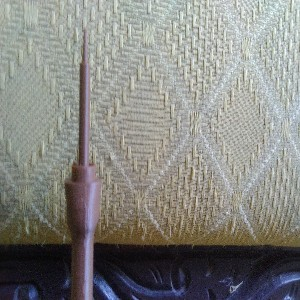solder: (63, 27, 104, 300)
